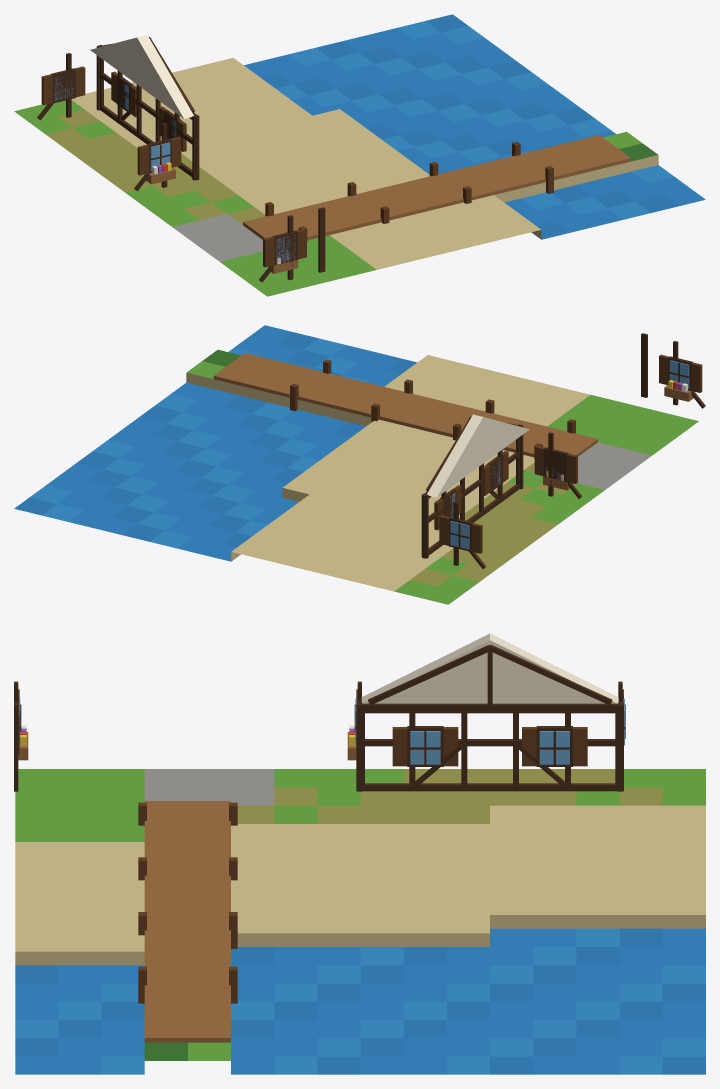
The model's file is chunk_11_5.glb.
3 renders of one model, top to bottom at view 1: azimuth 30°, elevation 25°; view 2: azimuth 150°, elevation 25°; view 3: azimuth 270°, elevation 25°, orthographic. The views are drawn at different scales.
Visible parts, largest first — view 1: chunk_11_5; view 2: chunk_11_5; view 3: chunk_11_5.
Boxes of the visible parts, x1,y1,x2,y2 form: chunk_11_5: (14,14,705,296); chunk_11_5: (14,325,705,604); chunk_11_5: (14,633,705,1074).
Bounding box in the file's own units: 16.25 × 4.57 × 16.03.
